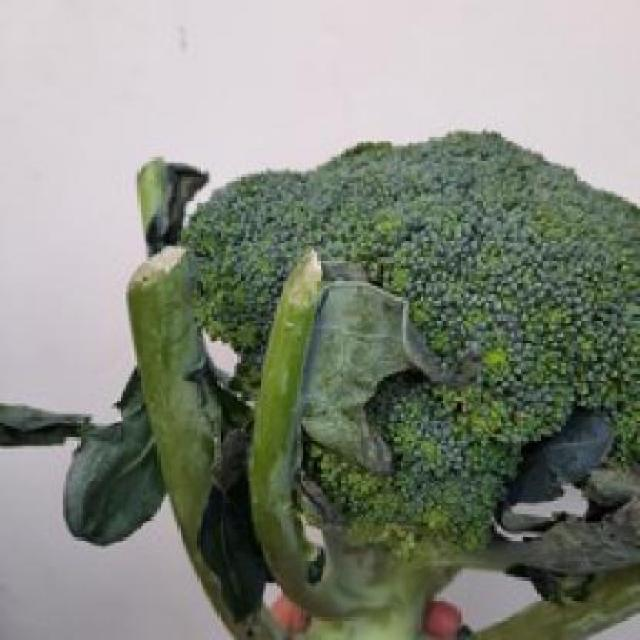broccoli: (117, 135, 637, 634)
